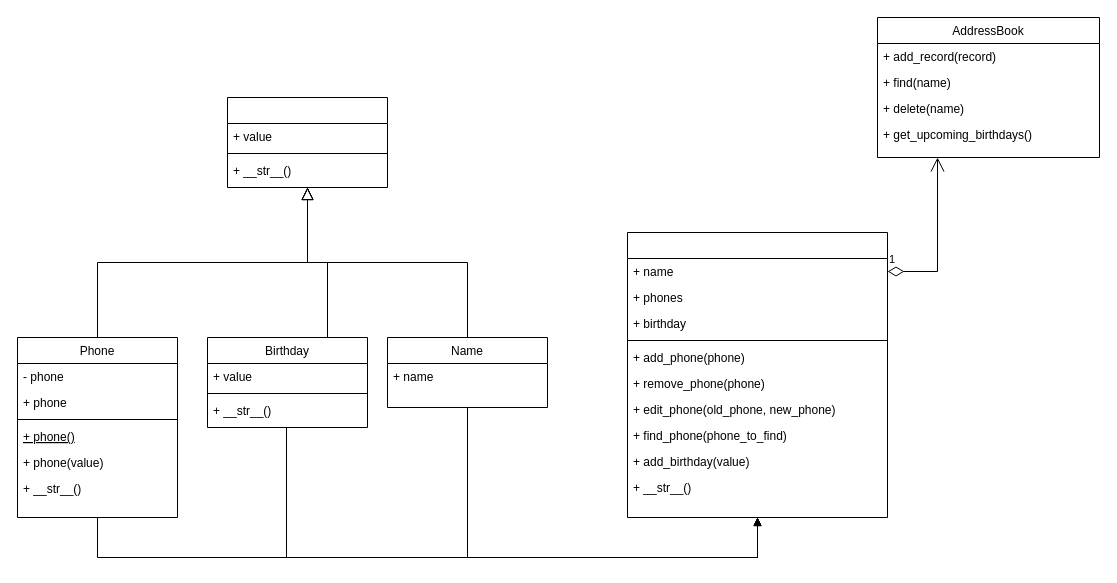
Some shapes in this 1117 by 583 pixel diagram are drawn without their labels. Each missing label, with the box of its shape:
Field: (226, 96, 388, 188)
Record: (626, 232, 888, 518)
